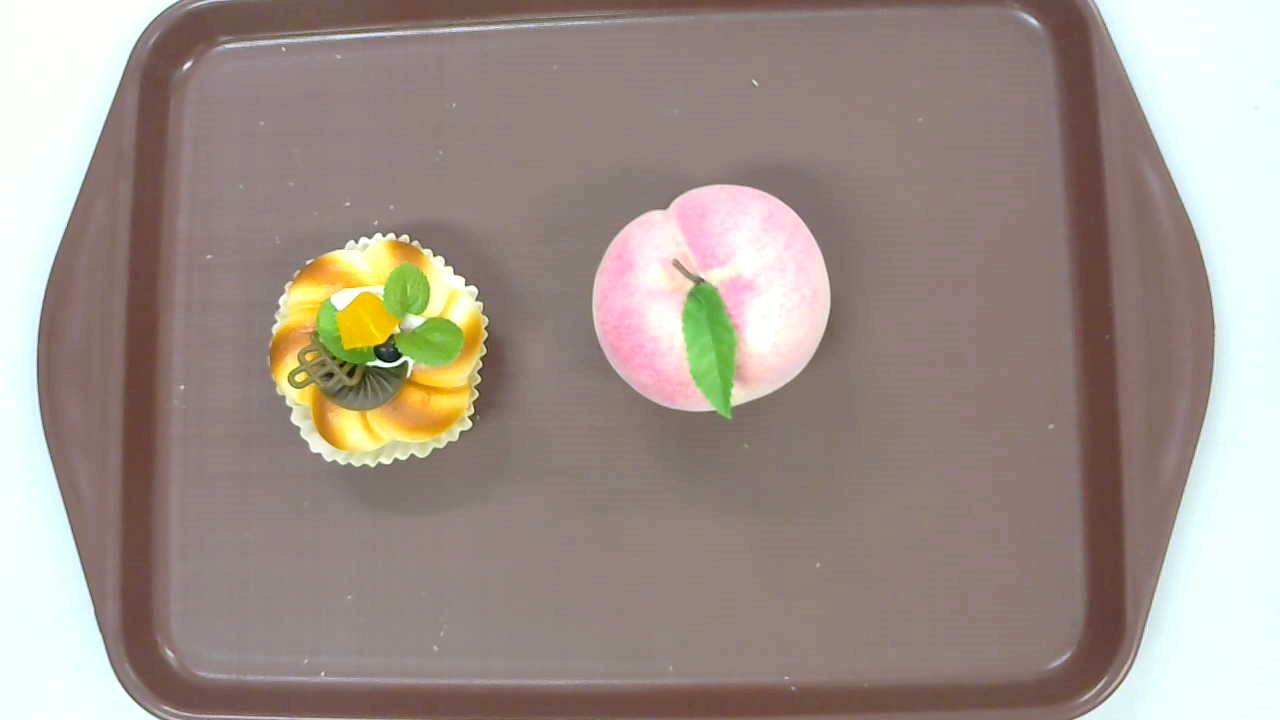fruit tart: (267, 232, 489, 469)
peach: (591, 184, 831, 422)
